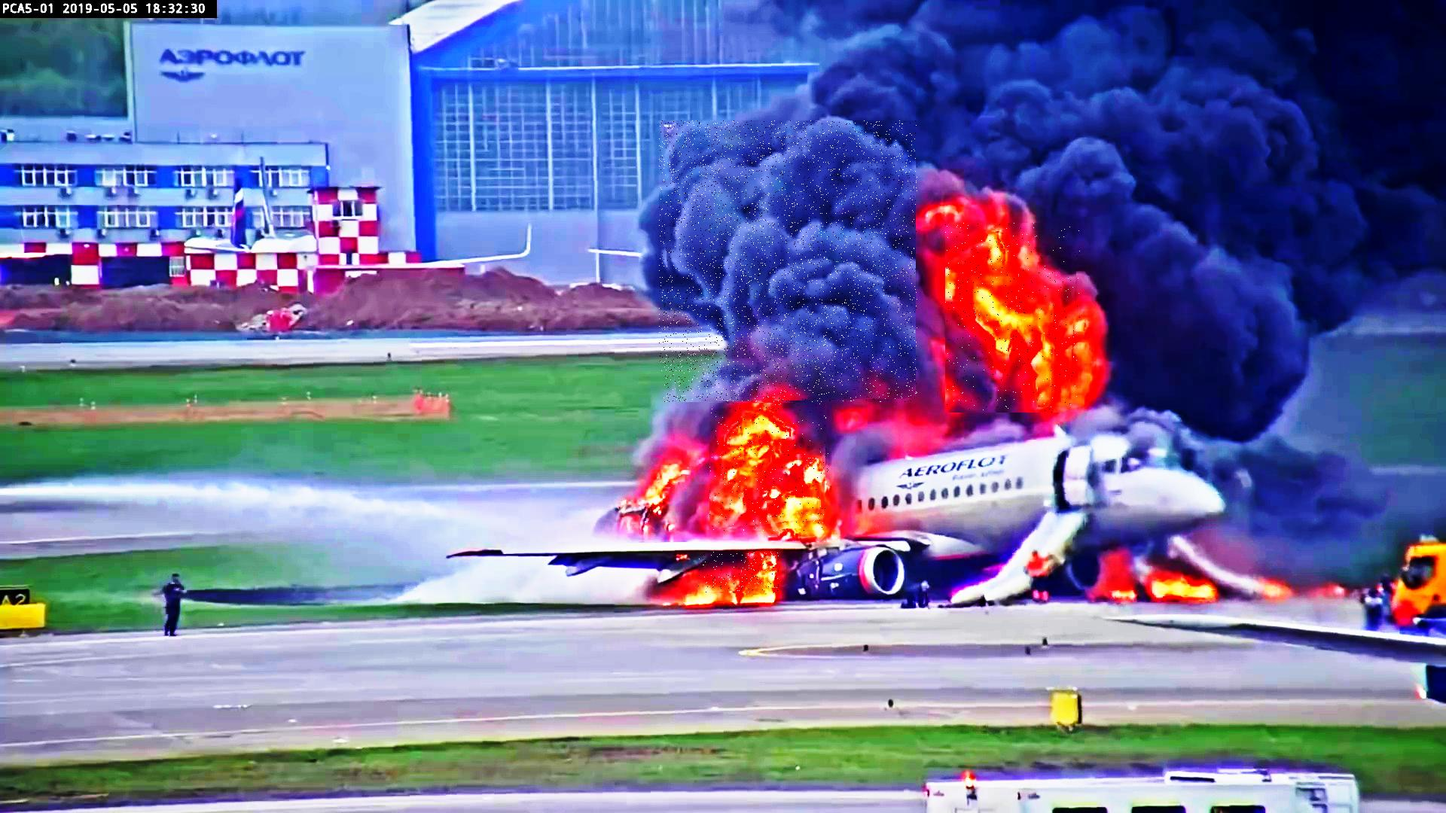fire: (946, 223, 1081, 413), (710, 403, 829, 531), (699, 552, 779, 593)
smoke: (659, 121, 918, 402)
